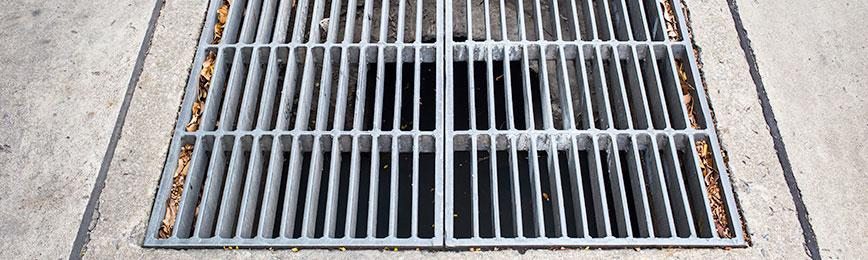open drainage-not overflowing-: (154, 0, 747, 251)
